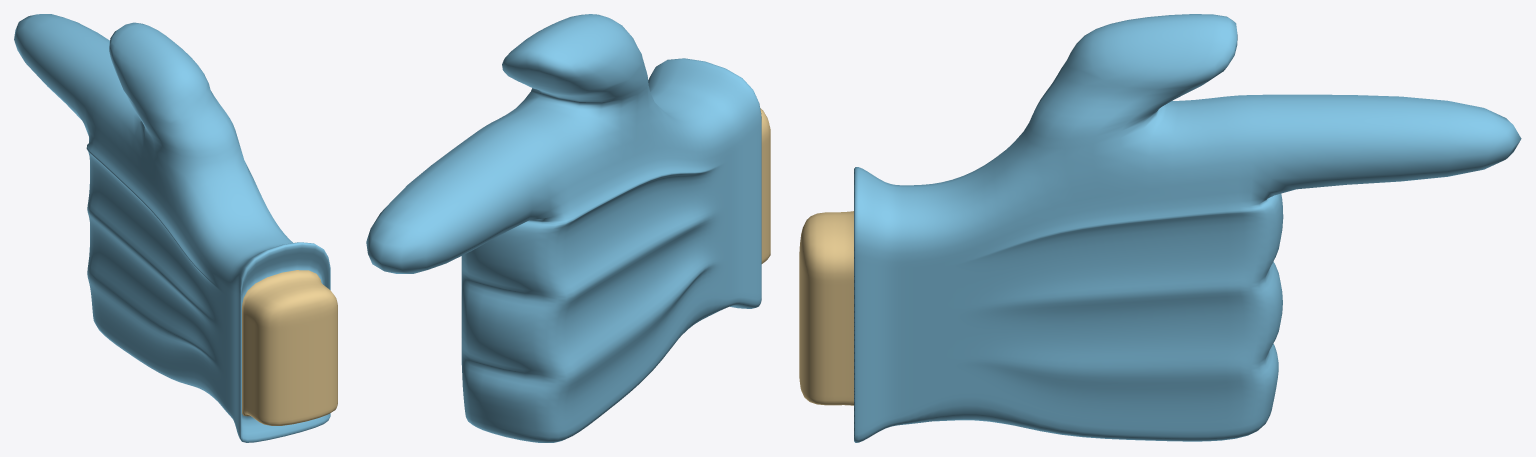
Rendered from Hand.fbx.
3 views of the same model, side by side, from view 1: azimuth 30°, elevation 25°; view 2: azimuth 150°, elevation 25°; view 3: azimuth 270°, elevation 25° (orthographic). The views are drawn at different scales.
Visible parts, largest first — view 1: Plane; view 2: Plane; view 3: Plane.
Boxes of the visible parts, <box> form: Plane: <box>14,14,337,442</box>; Plane: <box>366,14,770,442</box>; Plane: <box>799,14,1521,442</box>.
Size of the model in its own units: 1.72 by 5.66 by 9.25.
